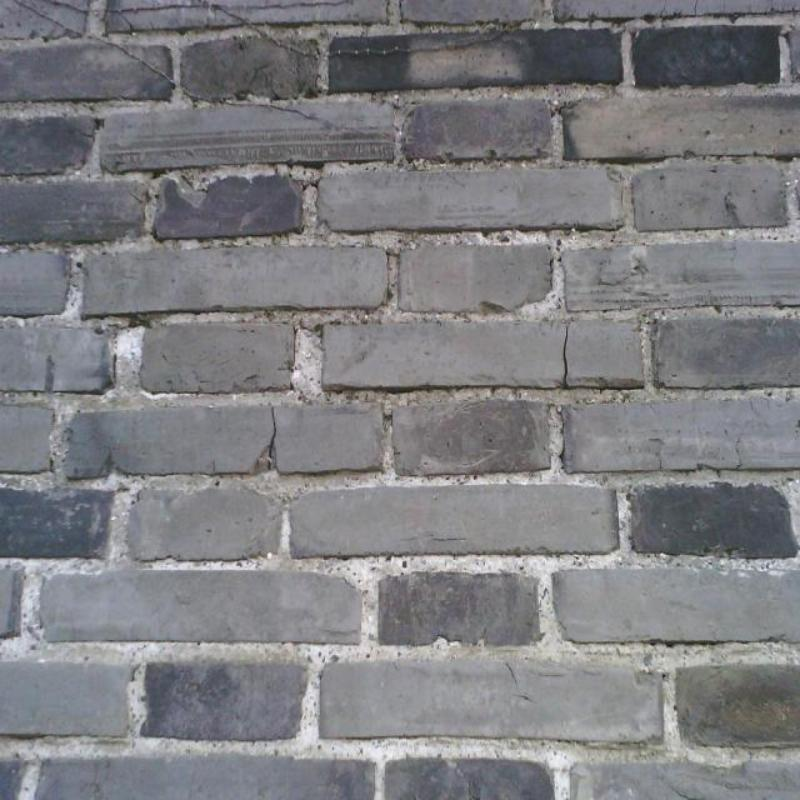pothole: (267, 407, 276, 472), (562, 326, 569, 388), (504, 661, 519, 688), (736, 436, 742, 469), (692, 0, 699, 16)
